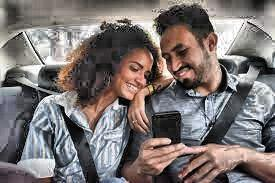seatbelt: (8, 73, 101, 183), (193, 60, 266, 145)
